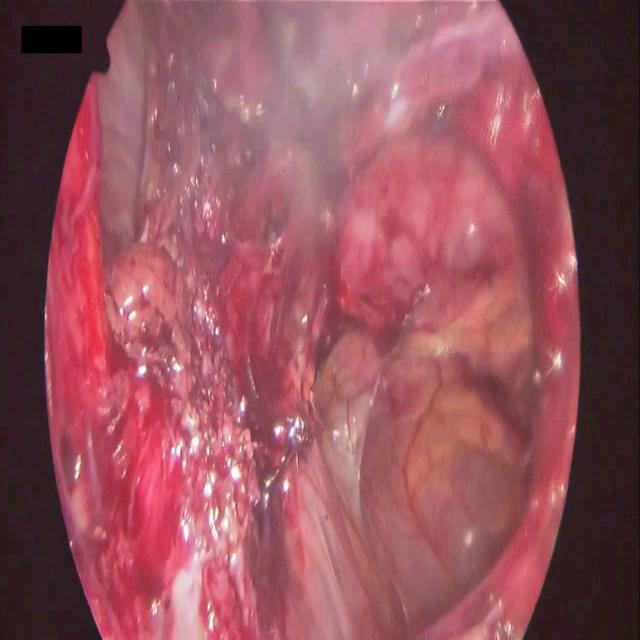surgical-area: (42, 0, 582, 639)
